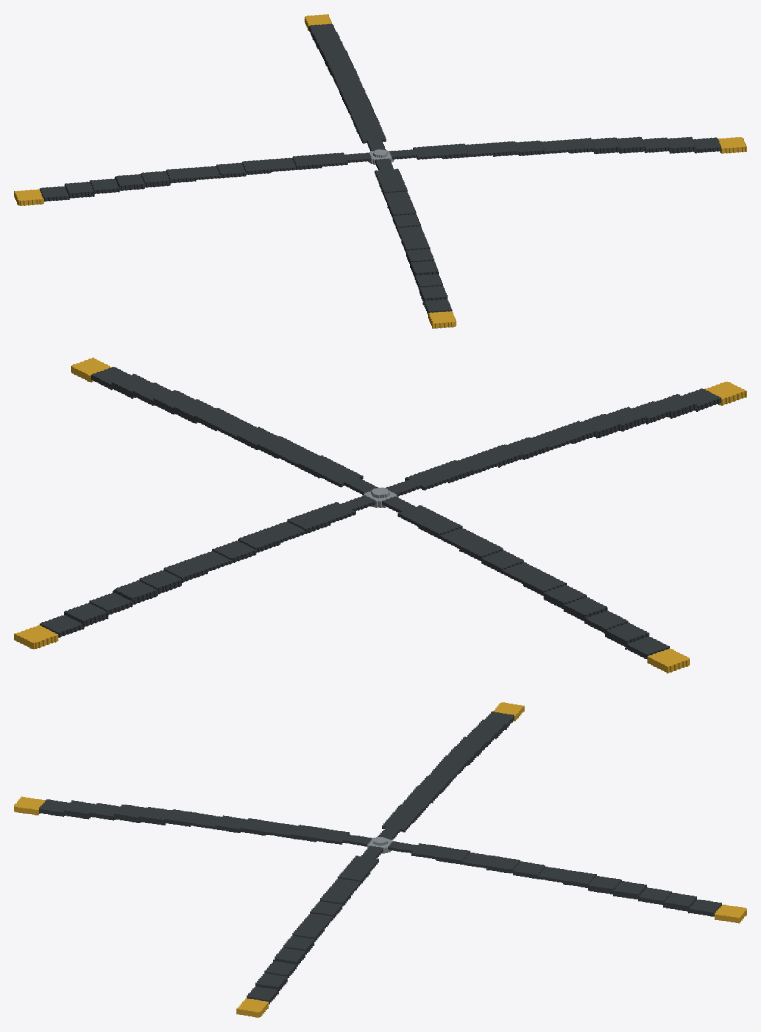
The model's file is military_transport_helicopter_main_rotor.glb.
The picture shows the model from 3 angles, top to bottom: view 1: azimuth 30°, elevation 25°; view 2: azimuth 150°, elevation 25°; view 3: azimuth 270°, elevation 25°; orthographic projection. The views are drawn at different scales.
Parts seen in each view (by area): view 1: body:compound; view 2: body:compound; view 3: body:compound.
Boxes of the visible parts, x1,y1,x2,y2 form: body:compound: (14,14,746,328); body:compound: (14,357,746,673); body:compound: (14,702,746,1017).
Bounding box in the file's own units: 15.56 × 0.5312 × 15.56.
